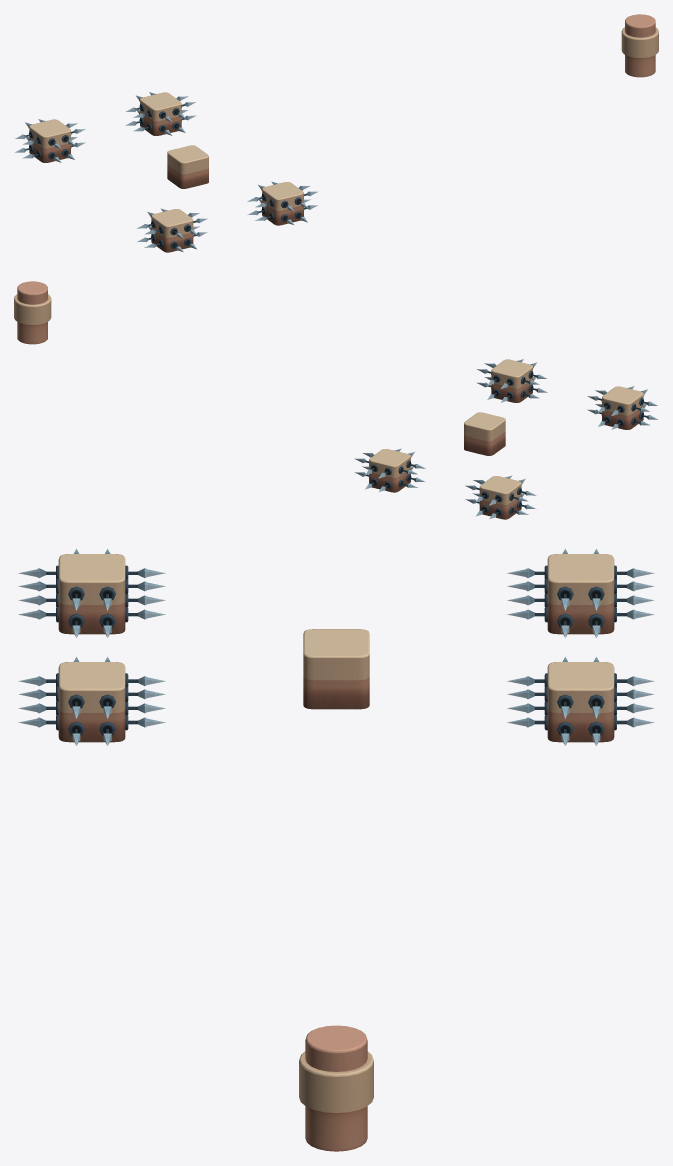
Rendered from Props.fbx.
The picture shows the model from 3 angles, top to bottom: view 1: azimuth 30°, elevation 25°; view 2: azimuth 150°, elevation 25°; view 3: azimuth 270°, elevation 25°; orthographic projection. The views are drawn at different scales.
Visible parts, largest first — view 1: Box01 (×5), Cylinder-2; view 2: Box01 (×5), Cylinder-2; view 3: Box01 (×5), Cylinder-2.
Boxes of the visible parts, x1=… form: Box01 (×5): x1=29, y1=92, x2=303, y2=252; Cylinder-2: x1=621, y1=14, x2=658, y2=77; Box01 (×5): x1=369, y1=359, x2=643, y2=519; Cylinder-2: x1=14, y1=281, x2=51, y2=344; Box01 (×5): x1=58, y1=554, x2=614, y2=742; Cylinder-2: x1=299, y1=1025, x2=373, y2=1151.
Bounding box in the file's own units: 60.04 × 5 × 28.7.
Materials: 3 (3 with a texture image).
